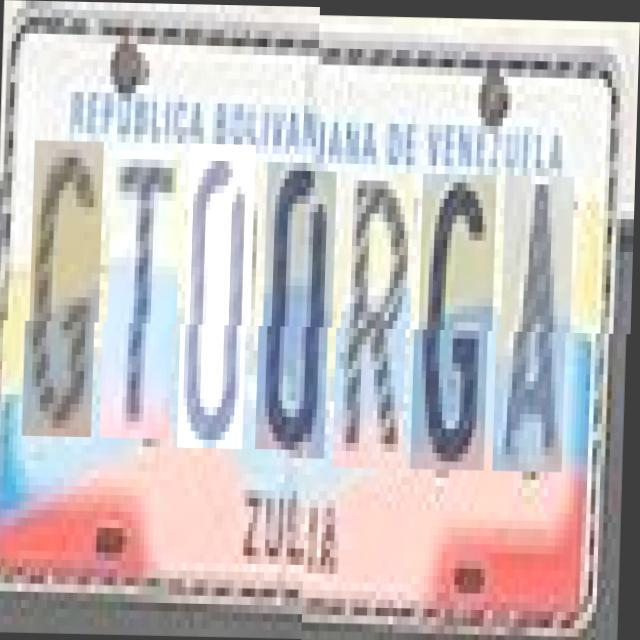0: (184, 151, 256, 456), (262, 169, 338, 457)
A: (500, 173, 576, 470)
G: (418, 172, 498, 468), (29, 148, 104, 446)
R: (340, 170, 416, 467)
T: (106, 150, 182, 446)
